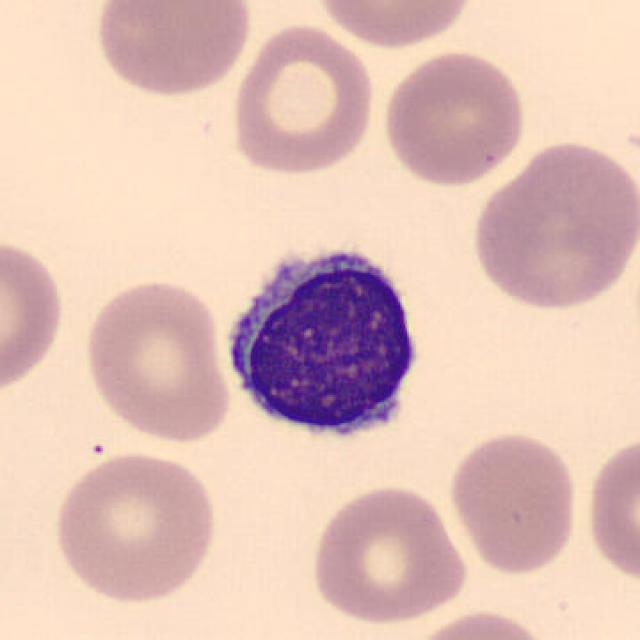Lymphocyte: (212, 231, 434, 455)
RBC: (466, 134, 638, 314), (48, 446, 222, 608), (80, 275, 235, 446), (225, 19, 378, 178), (306, 481, 473, 626), (377, 45, 531, 188), (444, 426, 582, 576), (90, 0, 256, 100), (0, 230, 69, 400), (581, 428, 640, 589), (309, 0, 480, 51), (405, 606, 556, 640)
